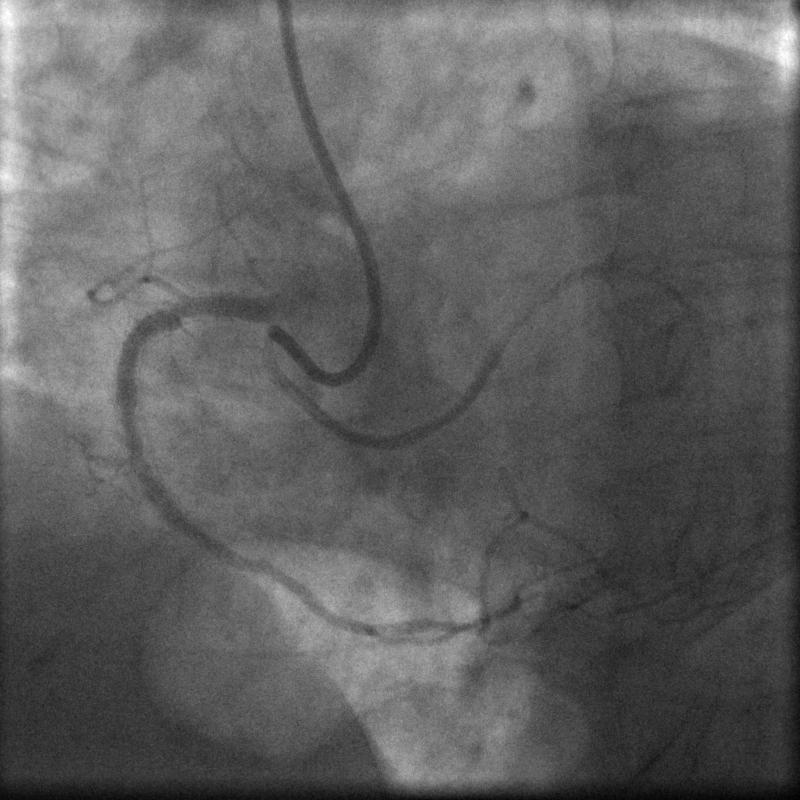Stenosis: (119, 404, 148, 483)
